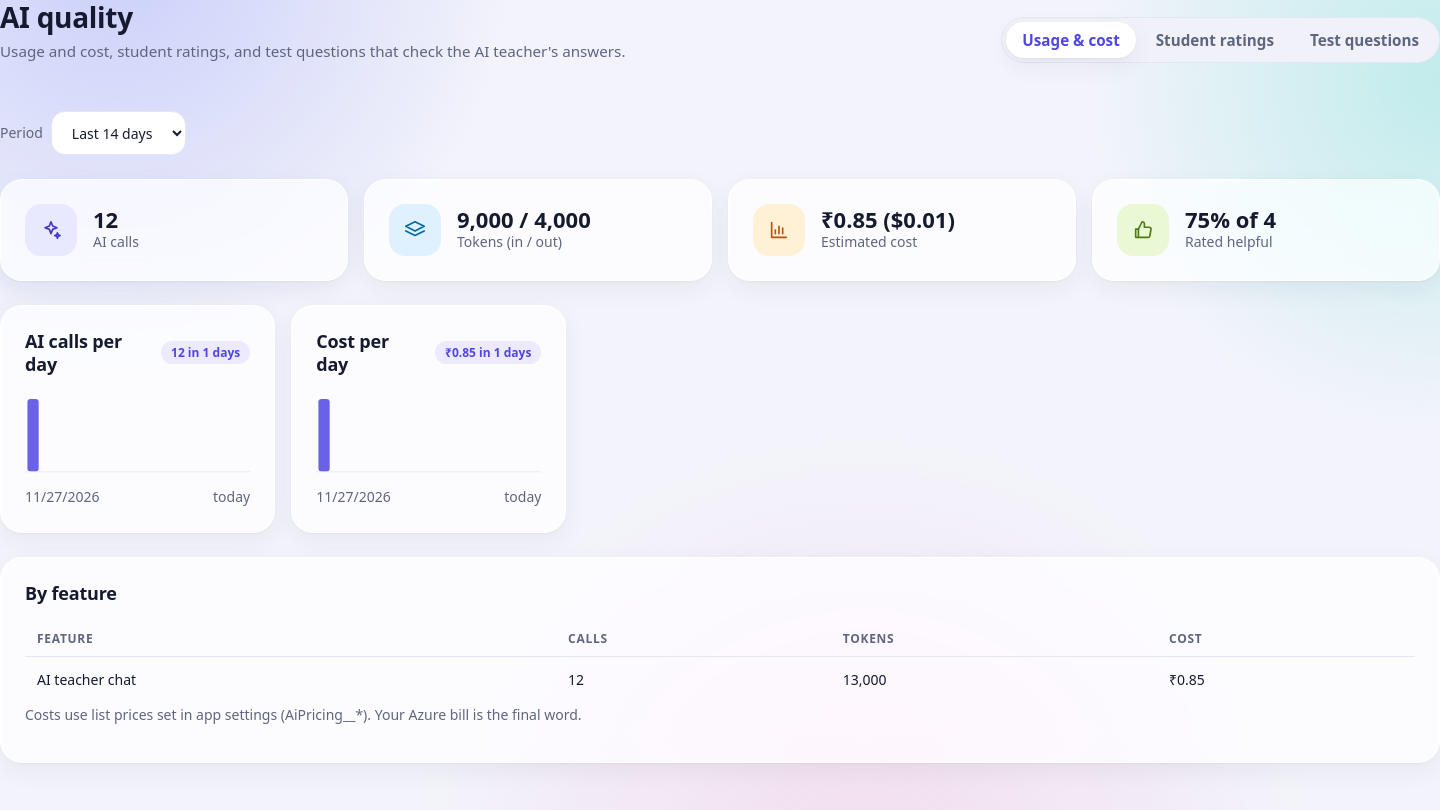
Scenario: Admin AI quality › shows cost by feature, the not-helpful answers, and runs the golden set
The image size is (1440, 810).
Expected: the text "AI teacher chat" is shown, top-left (25, 657), bottom-right (556, 704)
Expected: the text "75% of 4" is shown, top-left (1185, 207), bottom-right (1276, 231)
Step 1. Click the tab "Student ratings" → click(1215, 40), box top-left (1140, 22), bottom-right (1290, 58)
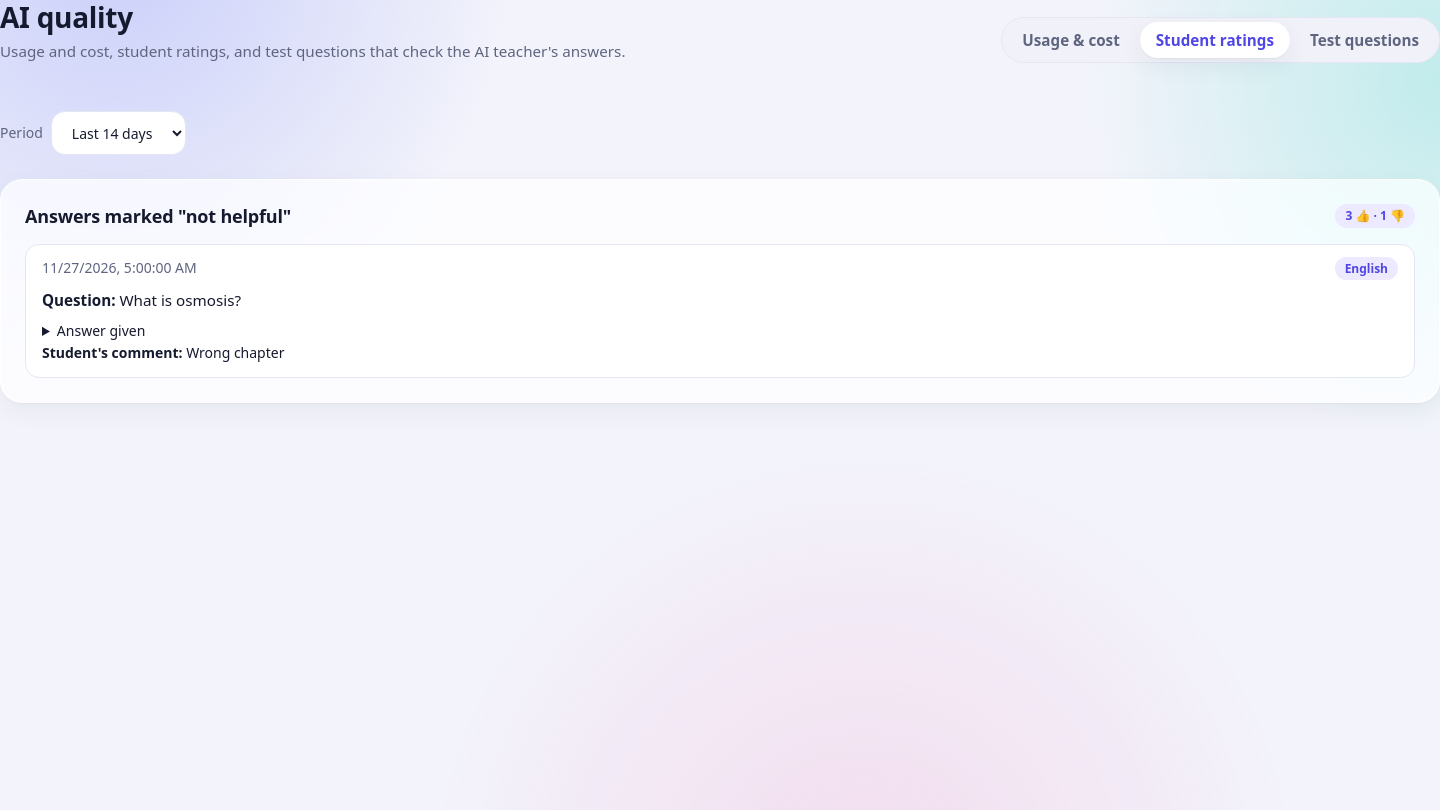
Expected: the text "What is osmosis?" is shown, top-left (120, 290), bottom-right (241, 310)
Expected: the text "Wrong chapter" is shown, top-left (186, 343), bottom-right (284, 362)
Step 2. Click the tab "Test questions" → click(1364, 40), box top-left (1294, 22), bottom-right (1435, 58)
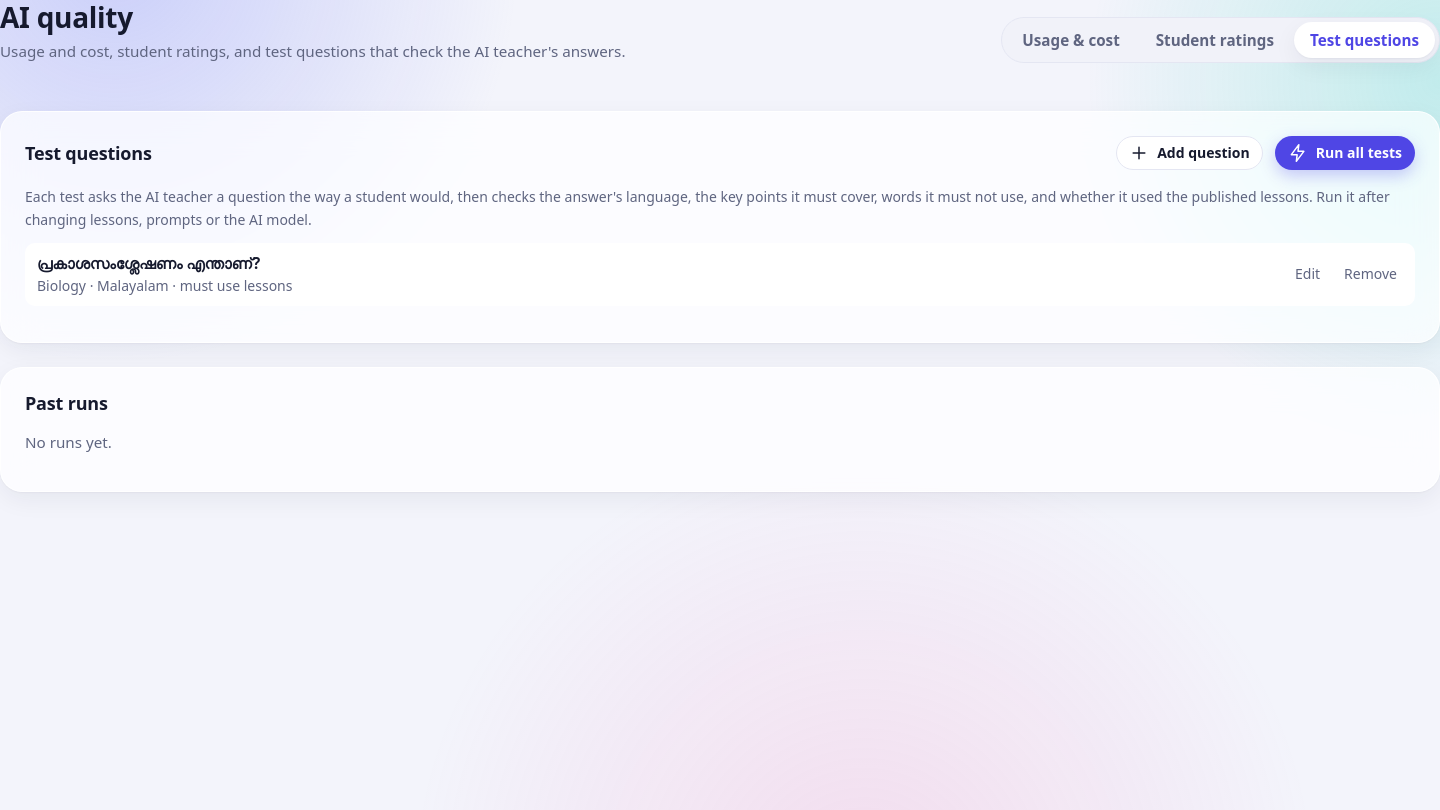
Expected: the text "പ്രകാശസംശ്ലേഷണം എന്താണ്?" is shown, top-left (37, 253), bottom-right (260, 273)
Step 3. Click the button "Run all tests" → click(1345, 153), box top-left (1275, 136), bottom-right (1415, 170)
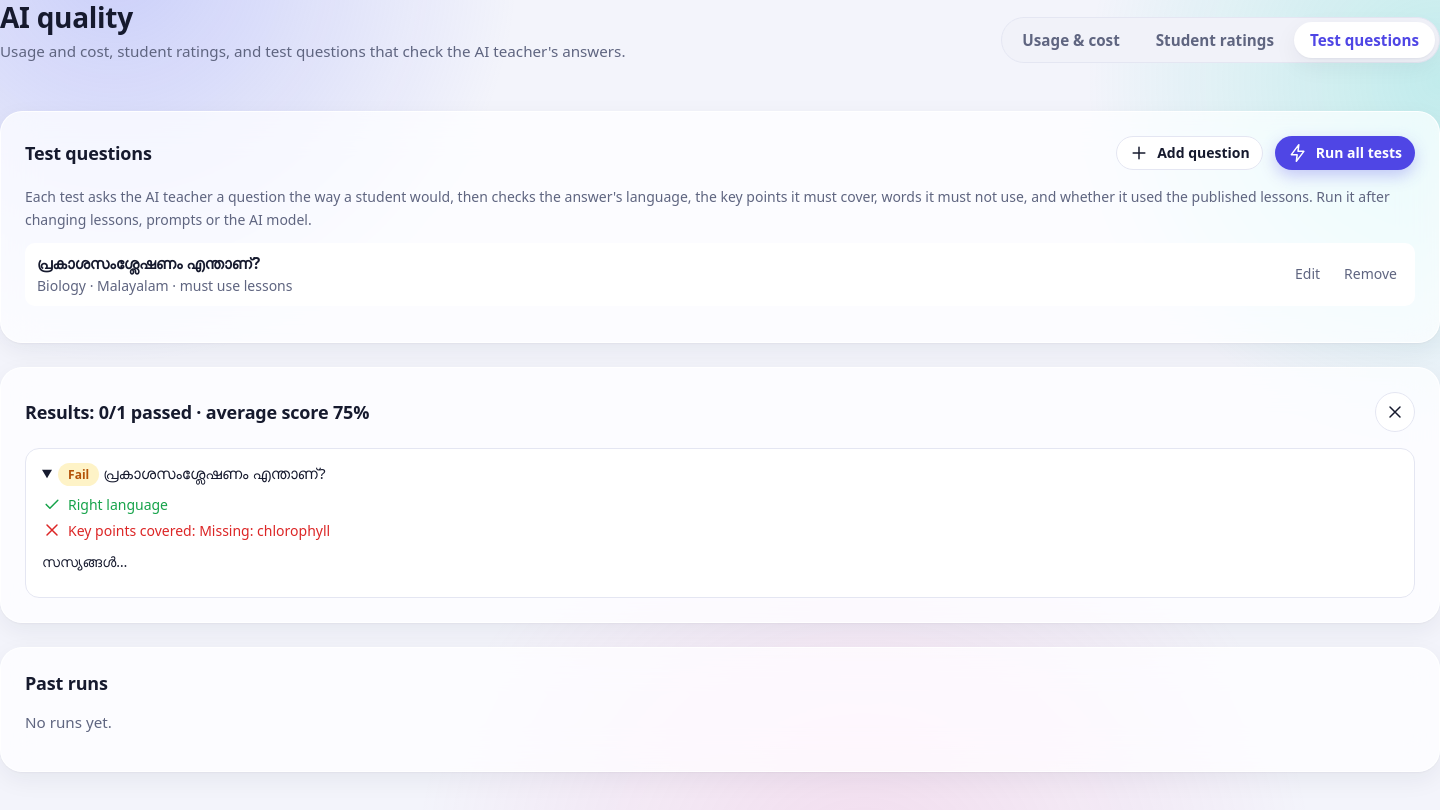
Expected: the heading "Results: 0/1 passed · average score 75%" is shown, top-left (25, 400), bottom-right (369, 423)
Expected: the list item "Key points covered: Missing: chlorophyll" is shown, top-left (42, 520), bottom-right (330, 540)
